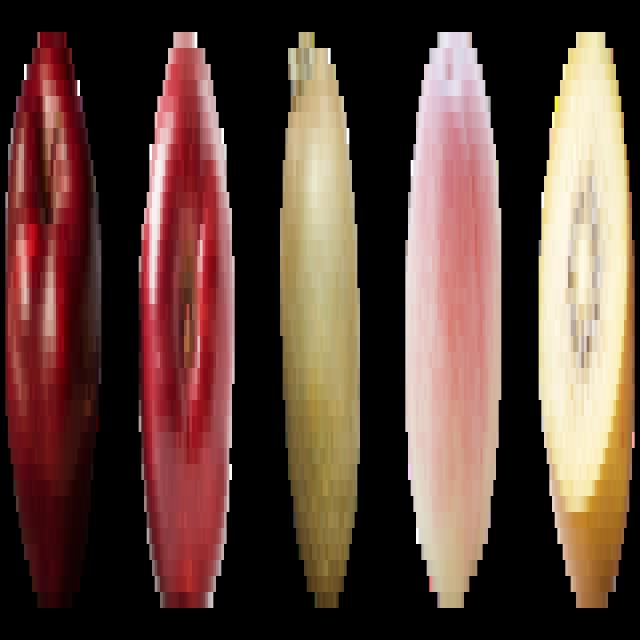apple: (134, 12, 242, 634), (3, 13, 107, 621)
kiwifruit: (272, 6, 370, 632), (536, 13, 636, 623)
peach: (402, 10, 505, 628)
